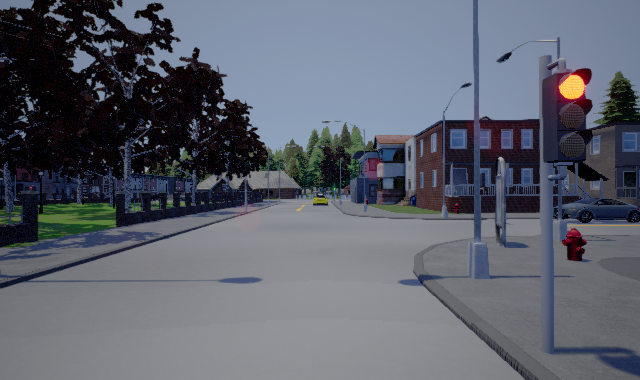traffic_light: (542, 58, 593, 181)
vehicle: (552, 198, 640, 226), (312, 191, 328, 208)
